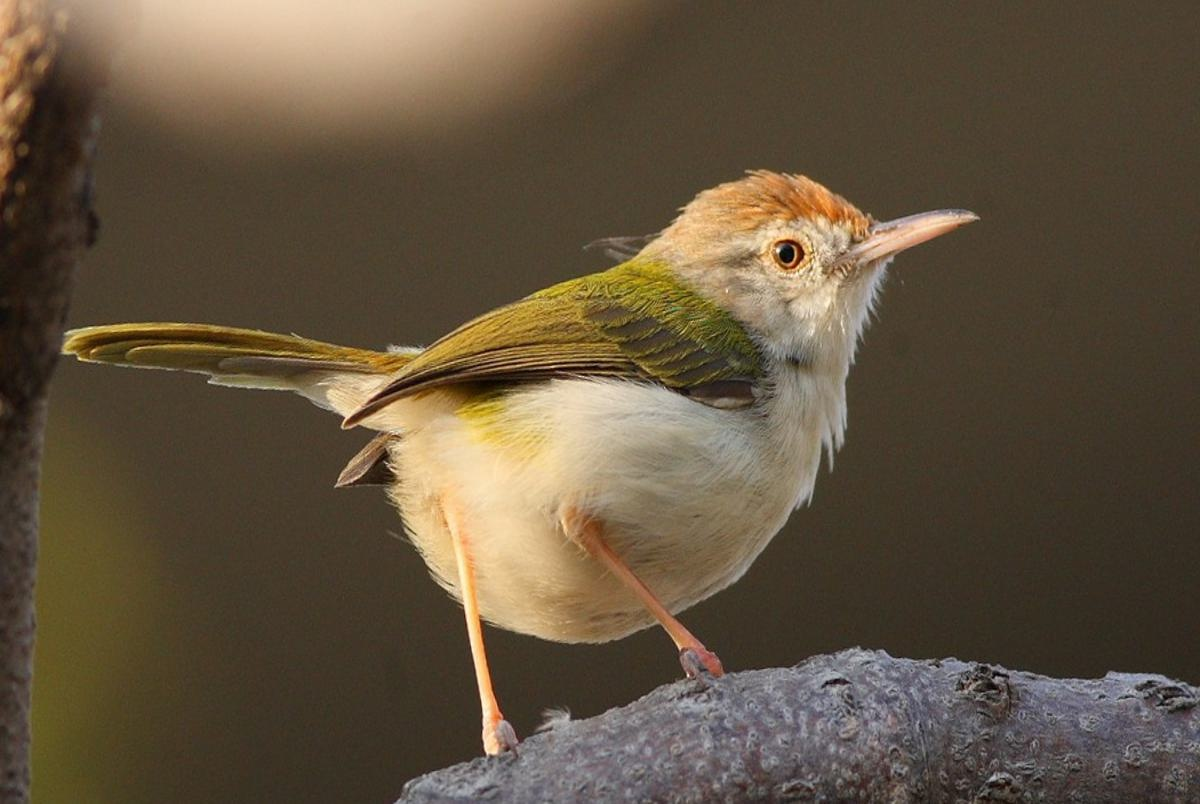tailorbird: (126, 165, 1017, 714)
